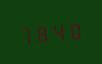eight: (34, 21, 49, 44)
four: (50, 20, 65, 42)
seven: (18, 22, 33, 45)
zero: (66, 18, 81, 41)
